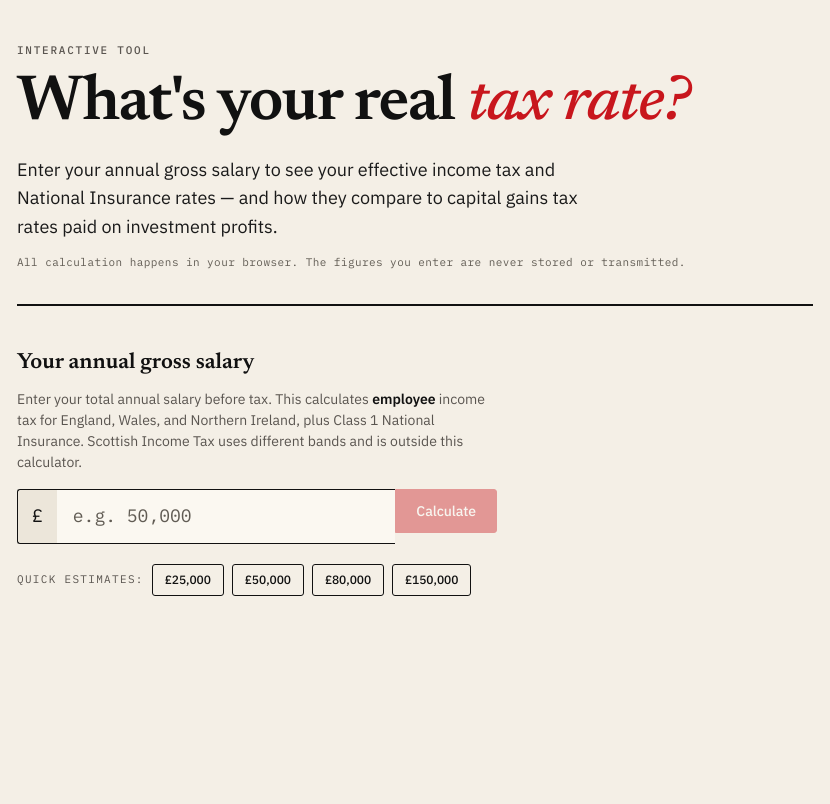
Test: TaxCalculator › shows breakdown table with tax bands
The image size is (830, 804).
In the field with id "salary-input": coordinates (226, 516) [57, 489, 395, 544], type "80000"
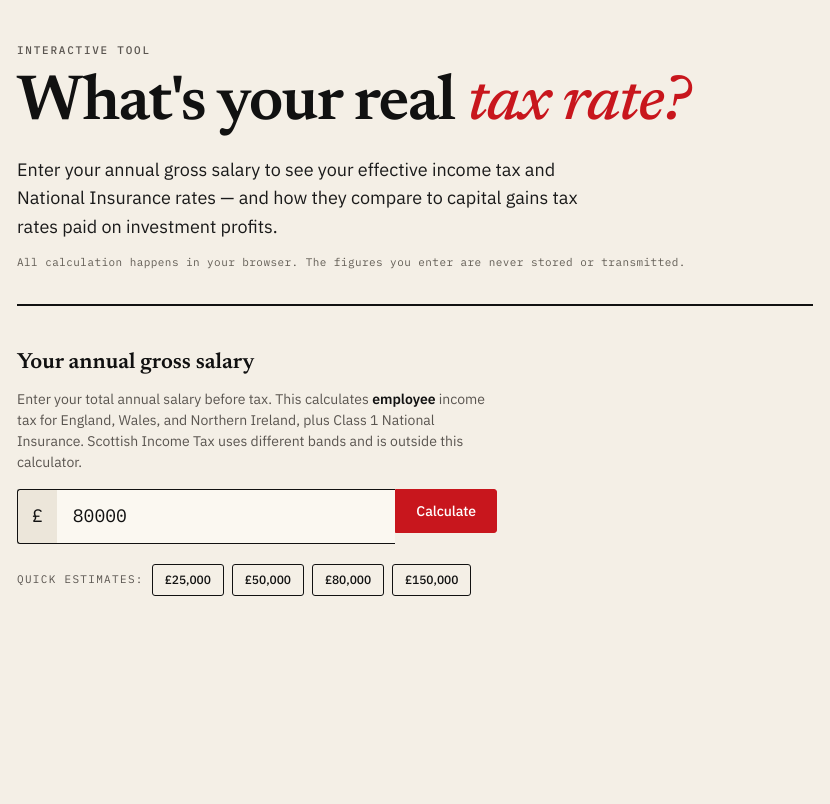
Click the button with class "calc__btn": coordinates (446, 511) [395, 489, 497, 533]
(page scrolled)
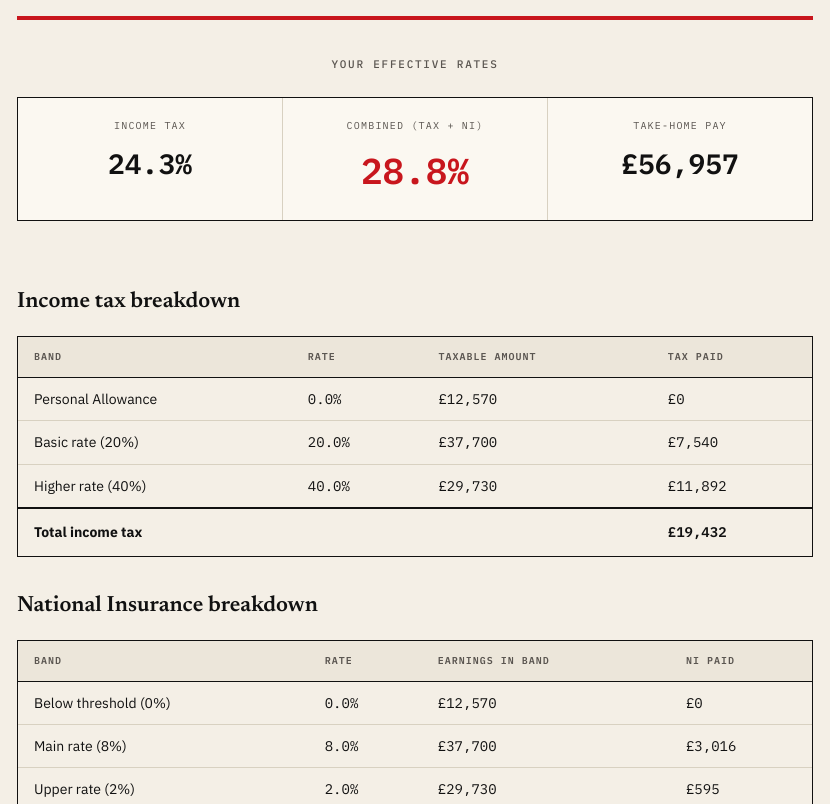
Expected: the row "Personal Allowance 0.0% £12,570 £0" is shown, [18, 377, 812, 421]
